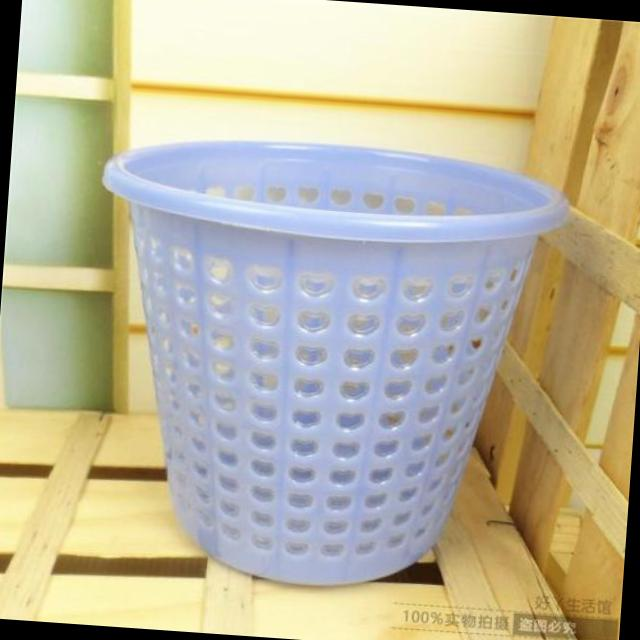dustbin: (71, 122, 584, 607)
